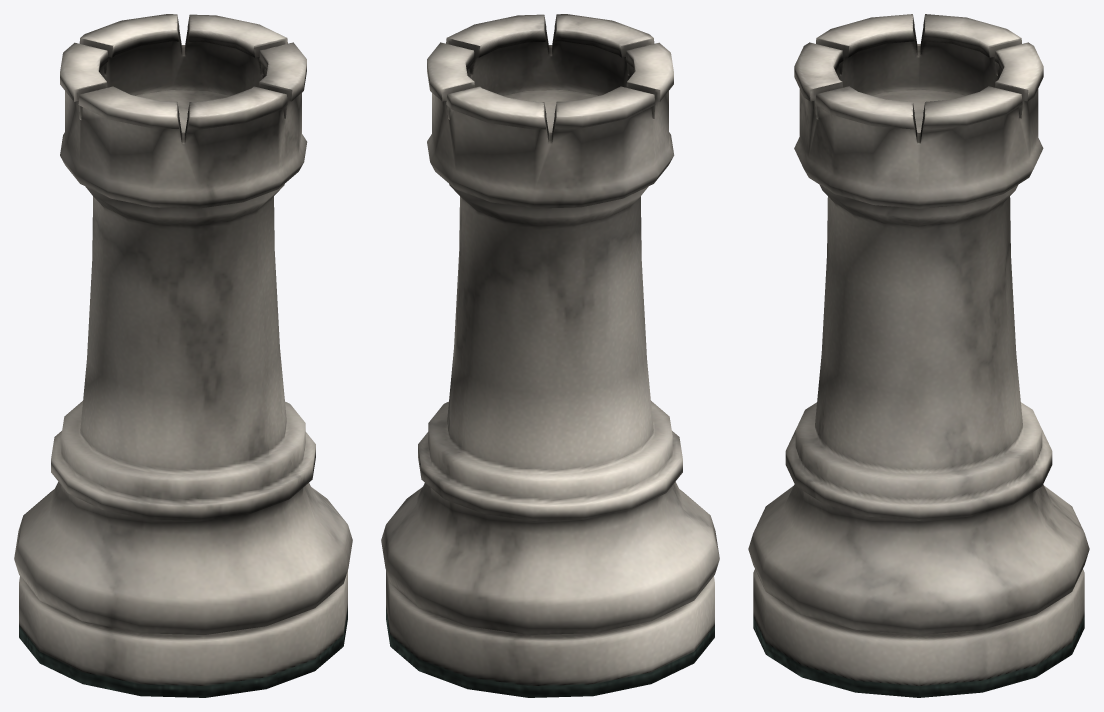
File: ChessPieces_Rook_White.gltf
3 renders of one model, left to right at view 1: azimuth 30°, elevation 25°; view 2: azimuth 150°, elevation 25°; view 3: azimuth 270°, elevation 25°, orthographic.
Visible parts, largest first — view 1: ChessPieces_Rook_White; view 2: ChessPieces_Rook_White; view 3: ChessPieces_Rook_White.
Part boxes in pixels (<box>): ChessPieces_Rook_White: <box>14,14,352,697</box>; ChessPieces_Rook_White: <box>381,14,719,697</box>; ChessPieces_Rook_White: <box>748,14,1089,697</box>.
Size of the model in its own units: 0.0277 by 0.0502 by 0.0277.
1 material, 1 textured.
